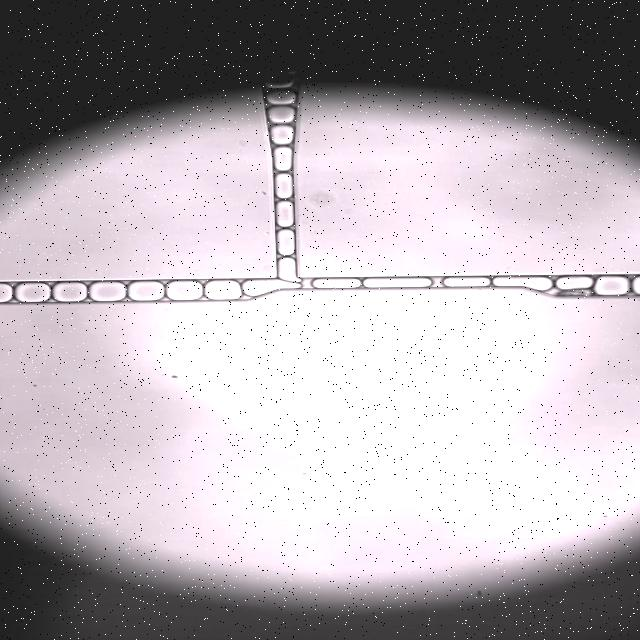L: (267, 106, 294, 124), (270, 125, 294, 145), (276, 201, 294, 227), (443, 277, 489, 287), (273, 147, 292, 171), (556, 277, 591, 290), (277, 230, 295, 255), (278, 258, 297, 281), (312, 279, 360, 288), (266, 91, 295, 105), (276, 173, 292, 198), (632, 277, 640, 295)
S: (243, 280, 300, 297), (493, 277, 551, 291), (14, 283, 51, 302), (593, 276, 629, 295), (167, 281, 203, 300), (89, 282, 125, 301), (363, 278, 431, 288), (128, 282, 165, 300), (205, 281, 241, 299), (53, 282, 86, 301), (0, 284, 12, 302)
